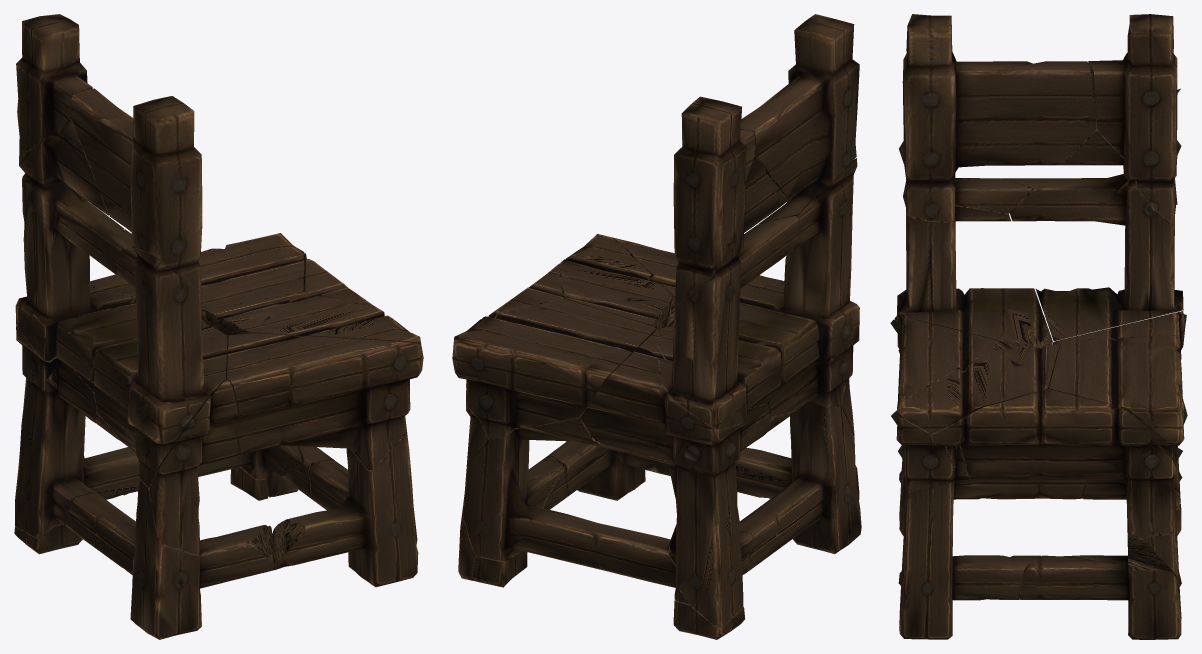
File: Chair_Fractured.fbx
3 renders of one model, left to right at view 1: azimuth 30°, elevation 25°; view 2: azimuth 150°, elevation 25°; view 3: azimuth 270°, elevation 25°, orthographic. The views are drawn at different scales.
Parts seen in each view (by area): view 1: Wooden_Chair_cell.017, Wooden_Chair_cell.006, Wooden_Chair_cell.001, Wooden_Chair_cell.020, Wooden_Chair_cell.010, Wooden_Chair_cell.005, Wooden_Chair_cell.008, Wooden_Chair_cell.016, Wooden_Chair_cell.015, Wooden_Chair_cell, Wooden_Chair_cell.012, Wooden_Chair_cell.022 (+1 smaller); view 2: Wooden_Chair_cell.017, Wooden_Chair_cell.008, Wooden_Chair_cell.006, Wooden_Chair_cell.001, Wooden_Chair_cell, Wooden_Chair_cell.020, Wooden_Chair_cell.010, Wooden_Chair_cell.015, Wooden_Chair_cell.005, Wooden_Chair_cell.012, Wooden_Chair_cell.022, Wooden_Chair_cell.018; view 3: Wooden_Chair_cell.017, Wooden_Chair_cell.020, Wooden_Chair_cell.006, Wooden_Chair_cell.015, Wooden_Chair_cell.005, Wooden_Chair_cell.001, Wooden_Chair_cell.012, Wooden_Chair_cell, Wooden_Chair_cell.010, Wooden_Chair_cell.008.
Boxes of the visible parts, x1,y1,x2,y2 form: Wooden_Chair_cell.017: [198, 233, 423, 470]; Wooden_Chair_cell.006: [15, 119, 136, 392]; Wooden_Chair_cell.001: [90, 247, 227, 487]; Wooden_Chair_cell.020: [71, 88, 202, 293]; Wooden_Chair_cell.010: [65, 477, 274, 639]; Wooden_Chair_cell.005: [271, 429, 418, 587]; Wooden_Chair_cell.008: [15, 274, 205, 537]; Wooden_Chair_cell.016: [149, 379, 240, 554]; Wooden_Chair_cell.015: [16, 14, 92, 167]; Wooden_Chair_cell: [55, 445, 301, 525]; Wooden_Chair_cell.012: [266, 446, 339, 501]; Wooden_Chair_cell.022: [14, 524, 82, 554]; Wooden_Chair_cell.017: [452, 234, 782, 466]; Wooden_Chair_cell.008: [580, 329, 770, 626]; Wooden_Chair_cell.006: [659, 156, 798, 429]; Wooden_Chair_cell.001: [667, 158, 859, 416]; Wooden_Chair_cell: [462, 411, 688, 603]; Wooden_Chair_cell.020: [741, 14, 859, 224]; Wooden_Chair_cell.010: [735, 400, 861, 574]; Wooden_Chair_cell.015: [673, 96, 755, 305]; Wooden_Chair_cell.005: [549, 441, 670, 500]; Wooden_Chair_cell.012: [458, 455, 568, 580]; Wooden_Chair_cell.022: [673, 600, 745, 639]; Wooden_Chair_cell.018: [473, 551, 527, 587]; Wooden_Chair_cell.017: [891, 319, 1187, 536]; Wooden_Chair_cell.020: [899, 14, 1096, 221]; Wooden_Chair_cell.006: [1000, 120, 1183, 340]; Wooden_Chair_cell.015: [1088, 14, 1181, 223]; Wooden_Chair_cell.005: [898, 481, 1040, 639]; Wooden_Chair_cell.001: [894, 173, 1052, 349]; Wooden_Chair_cell.012: [1019, 555, 1181, 639]; Wooden_Chair_cell: [1063, 480, 1181, 598]; Wooden_Chair_cell.010: [899, 459, 1088, 535]; Wooden_Chair_cell.008: [1052, 311, 1186, 502].
Bounding box in the file's own units: 53.52 × 97.79 × 52.19.
1 material, 1 textured.
